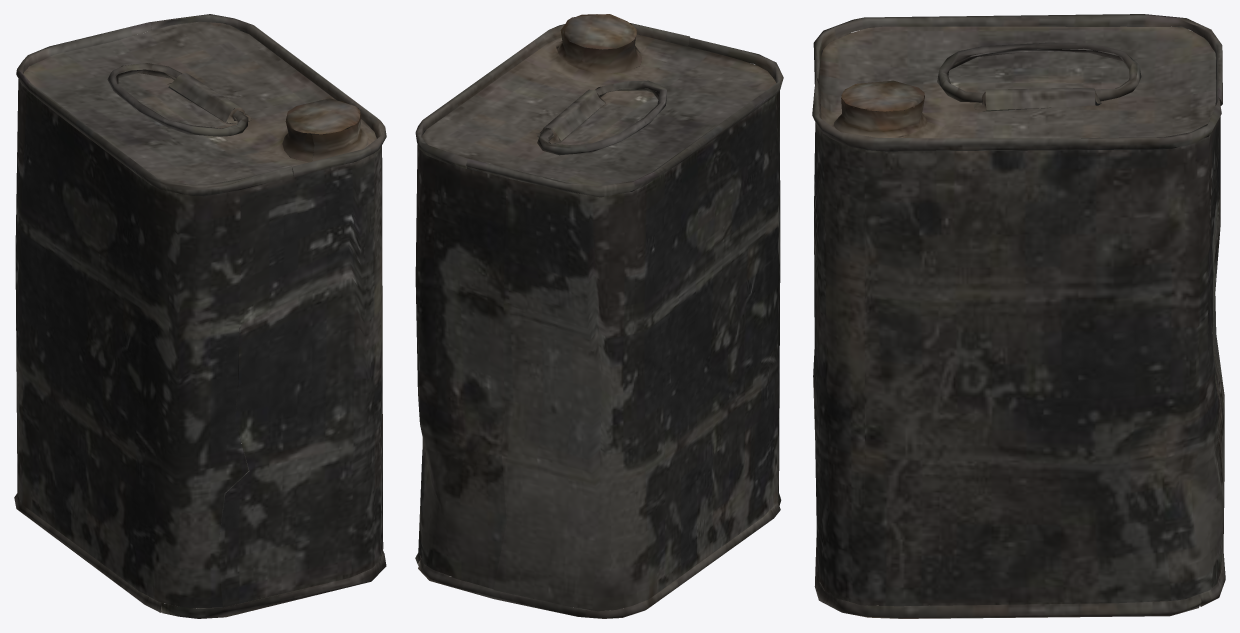
File: ph_oil_tin.glb
The picture shows the model from 3 angles, left to right: view 1: azimuth 30°, elevation 25°; view 2: azimuth 150°, elevation 25°; view 3: azimuth 270°, elevation 25°; orthographic projection. The views are drawn at different scales.
Parts seen in each view (by area): view 1: oil_tin; view 2: oil_tin; view 3: oil_tin.
Part boxes in pixels (x1,y1,x2,y2): oil_tin: [14, 14, 386, 618]; oil_tin: [415, 14, 783, 618]; oil_tin: [812, 14, 1225, 618].
Bounding box in the file's own units: 0.1145 × 0.2053 × 0.1538.
1 material, 1 textured.
